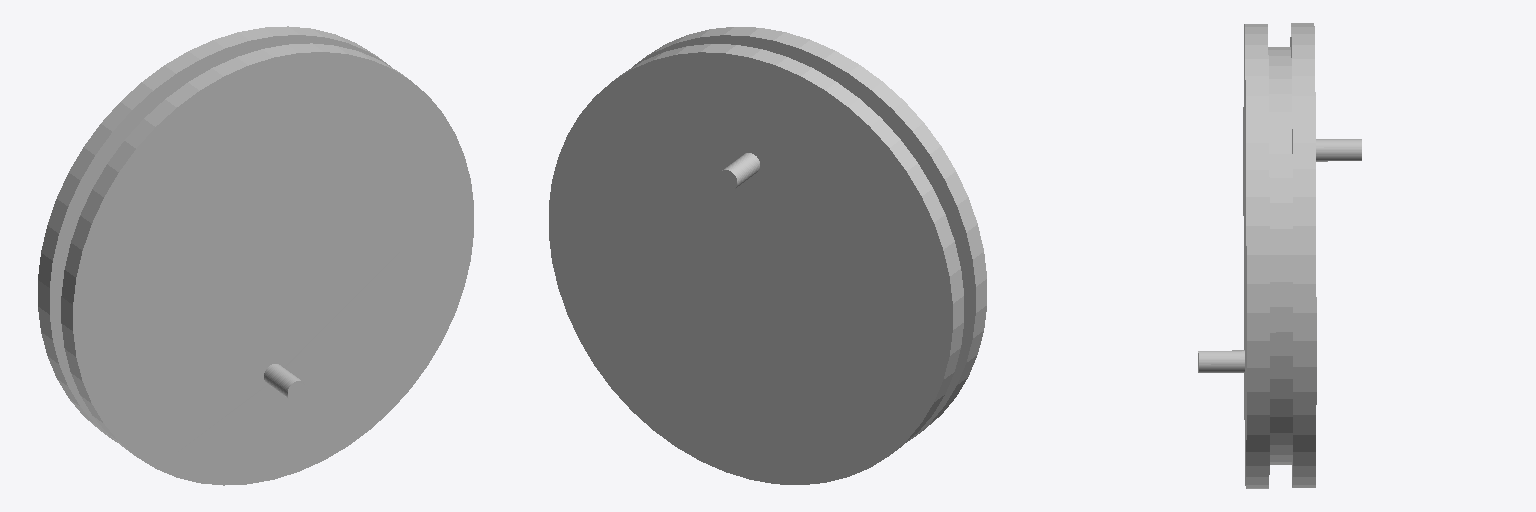
Rendered from Pedalier.obj.
3 views of the same model, side by side, from view 1: azimuth 30°, elevation 25°; view 2: azimuth 150°, elevation 25°; view 3: azimuth 270°, elevation 25° (orthographic).
Parts seen in each view (by area): view 1: Pedalier_Pedalier_Circle; view 2: Pedalier_Pedalier_Circle; view 3: Pedalier_Pedalier_Circle.
Part boxes in pixels (x1,y1,x2,y2): Pedalier_Pedalier_Circle: (38,26,473,485); Pedalier_Pedalier_Circle: (549,27,986,484); Pedalier_Pedalier_Circle: (1198,23,1361,488).
Bounding box in the file's own units: 1.19 × 1.19 × 0.4172.